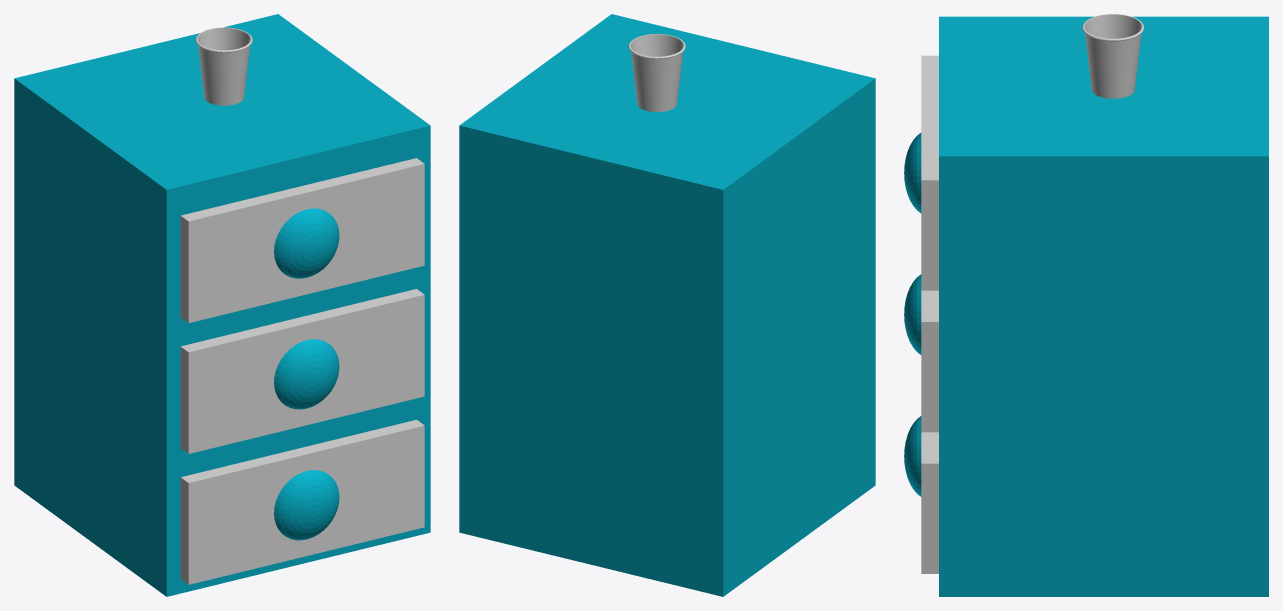
The model's file is Sidetable.glb.
The picture shows the model from 3 angles, left to right: view 1: azimuth 30°, elevation 25°; view 2: azimuth 150°, elevation 25°; view 3: azimuth 270°, elevation 25°; orthographic projection. The views are drawn at different scales.
Visible parts, largest first — view 1: Mesh_Mesh_head_geo.001_lambert2SG.001; view 2: Mesh_Mesh_head_geo.001_lambert2SG.001; view 3: Mesh_Mesh_head_geo.001_lambert2SG.001.
Part boxes in pixels (box(x1,y1,x2,y2)): Mesh_Mesh_head_geo.001_lambert2SG.001: box(14, 14, 430, 596); Mesh_Mesh_head_geo.001_lambert2SG.001: box(459, 14, 875, 596); Mesh_Mesh_head_geo.001_lambert2SG.001: box(904, 14, 1268, 596).
Bounding box in the file's own units: 19 × 32 × 21.
